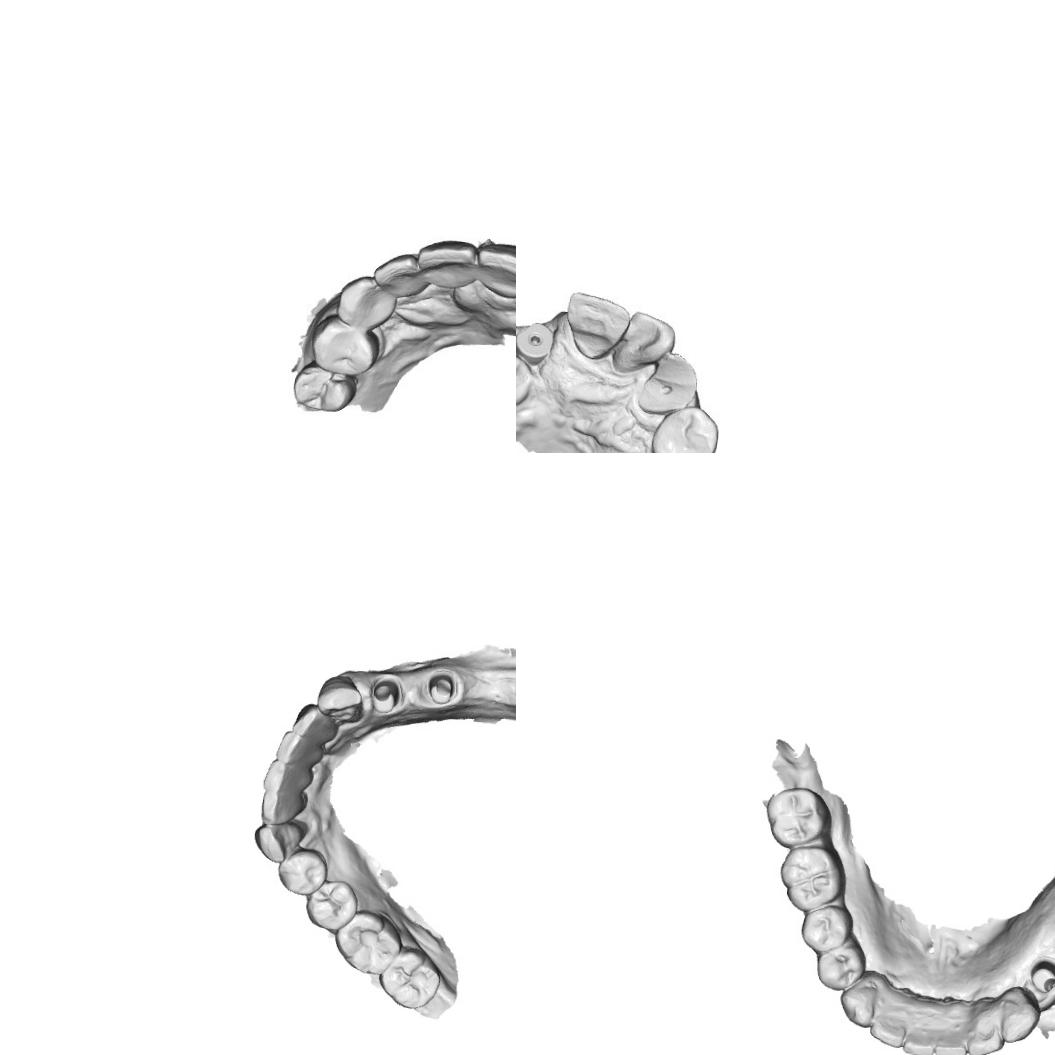abutment: (370, 676, 401, 716), (427, 672, 458, 706), (1028, 957, 1055, 995)
canine: (634, 351, 702, 416), (334, 275, 395, 326), (996, 984, 1040, 1044), (316, 674, 364, 724), (252, 820, 304, 864), (838, 979, 878, 1028)
implant: (516, 322, 555, 370)
incisor: (562, 290, 632, 364), (608, 309, 675, 373), (414, 236, 482, 292), (965, 996, 1006, 1055), (371, 252, 422, 298), (474, 241, 516, 294), (260, 757, 314, 795), (900, 1002, 937, 1055), (932, 1002, 969, 1055), (258, 788, 308, 827), (290, 702, 338, 742), (868, 1003, 907, 1051), (273, 729, 324, 765)
molar: (332, 908, 402, 978), (778, 846, 847, 914), (764, 786, 833, 849), (378, 944, 442, 1010)
premolar: (307, 314, 380, 378), (285, 361, 358, 414), (644, 404, 718, 453), (304, 878, 360, 934), (798, 904, 854, 955), (276, 846, 330, 897), (814, 942, 868, 993)
